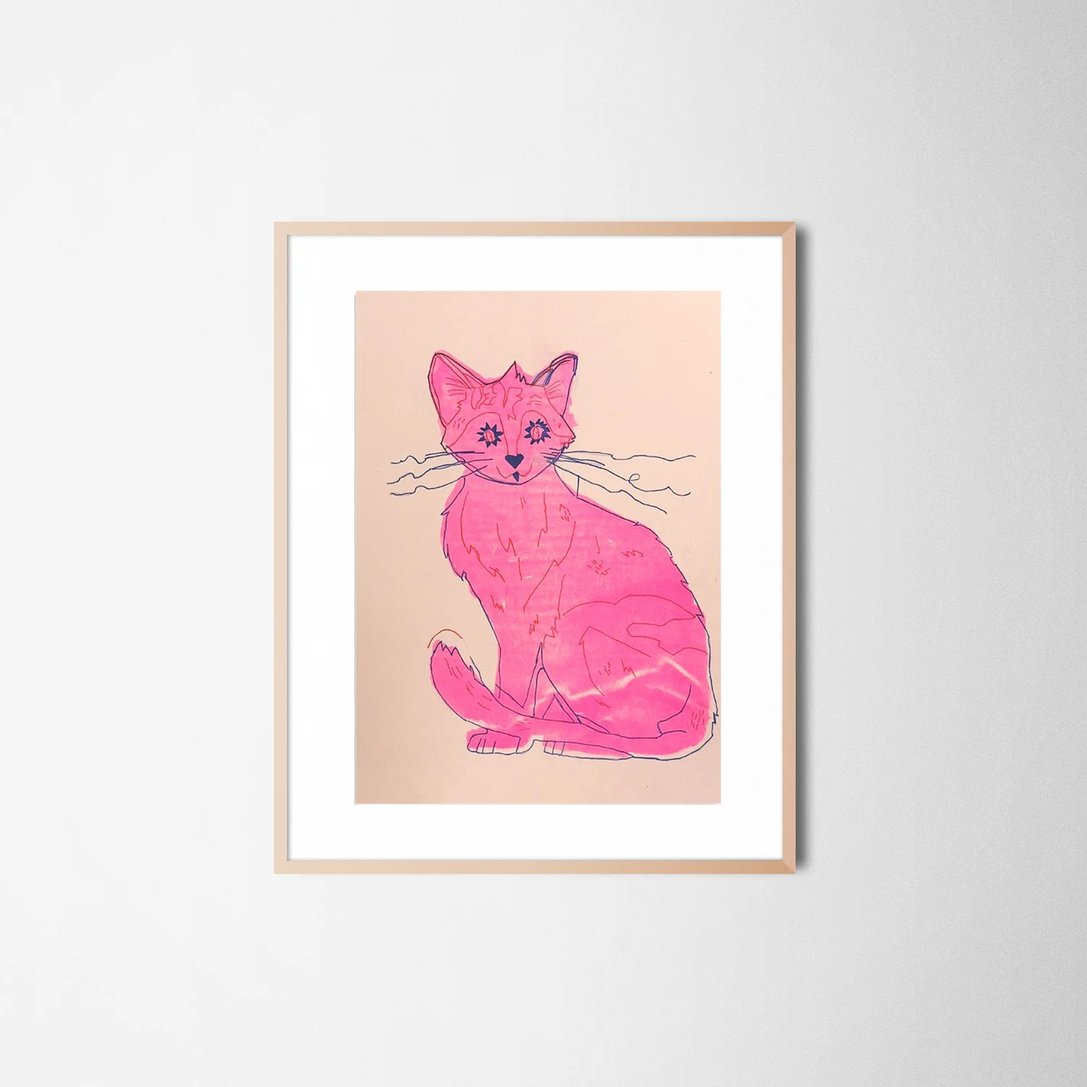painting: (273, 220, 802, 876)
